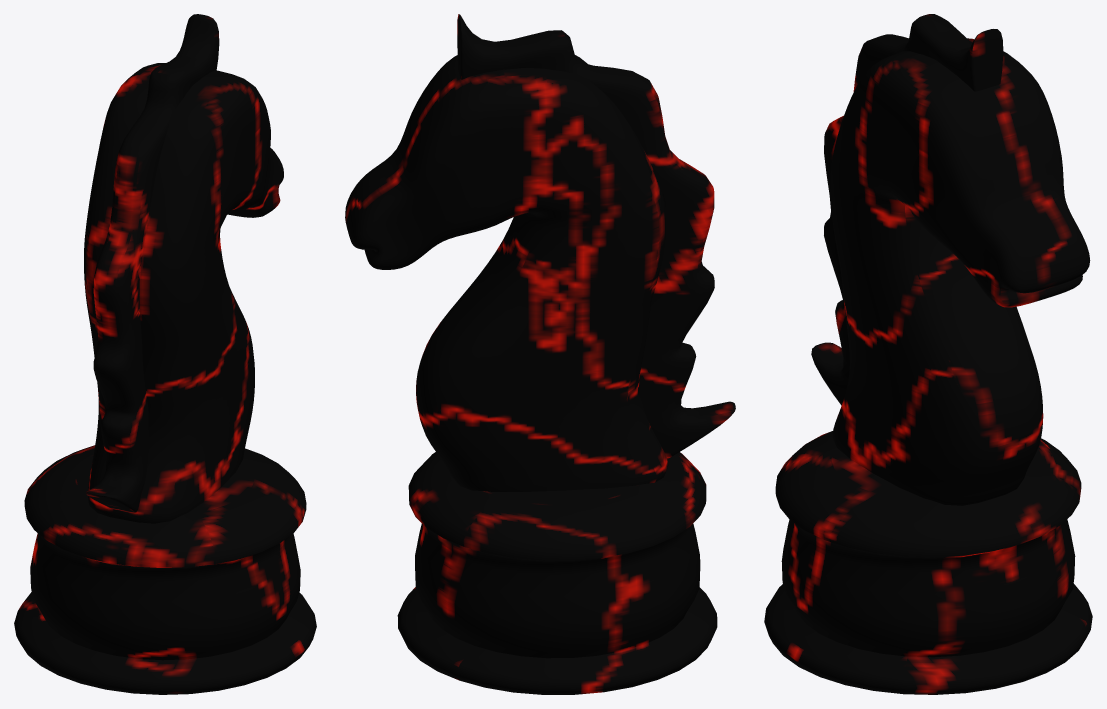
File: BlackKnight.glb
The picture shows the model from 3 angles, left to right: view 1: azimuth 30°, elevation 25°; view 2: azimuth 150°, elevation 25°; view 3: azimuth 270°, elevation 25°; orthographic projection. The views are drawn at different scales.
Visible parts, largest first — view 1: Knight; view 2: Knight; view 3: Knight.
Boxes of the visible parts, x1=… form: Knight: x1=14, y1=14, x2=316, y2=694; Knight: x1=345, y1=14, x2=735, y2=694; Knight: x1=764, y1=14, x2=1092, y2=694.
Size of the model in its own units: 0.2114 by 0.412 by 0.1922.
Materials: 1 (1 with a texture image).
